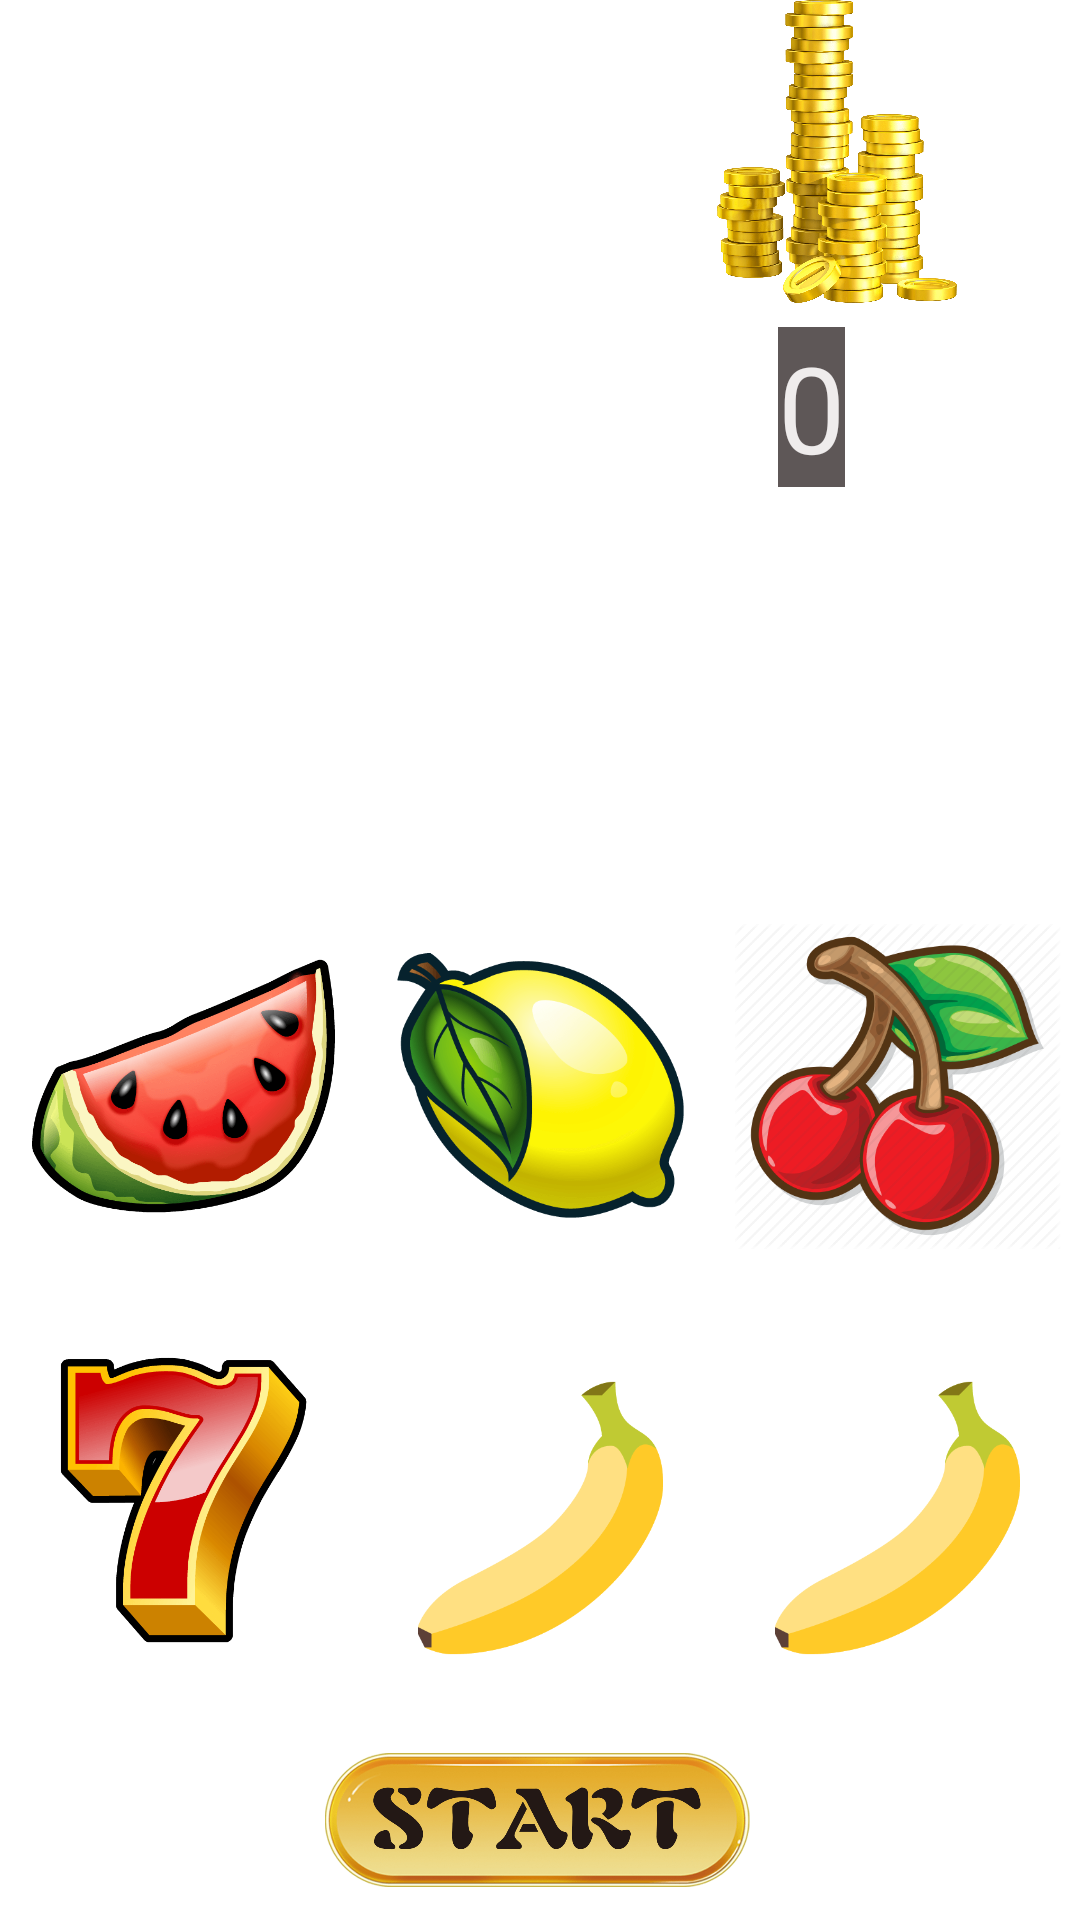

Icons on this 1080 x 1920 Android screen, each with its box as (x1, y1, x2, y2):
money: (717, 0, 957, 303)
slot: (750, 936, 1044, 1235), (397, 953, 684, 1218), (32, 959, 335, 1213), (61, 1358, 307, 1643), (418, 1382, 663, 1654), (775, 1382, 1020, 1654)
